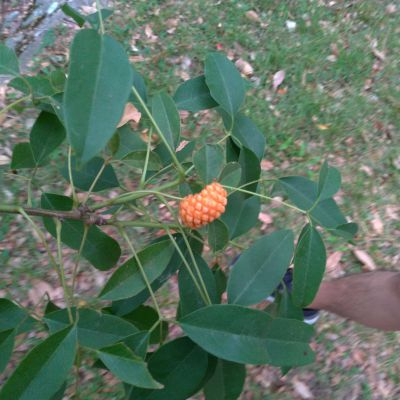eggs: (173, 178, 231, 228)
